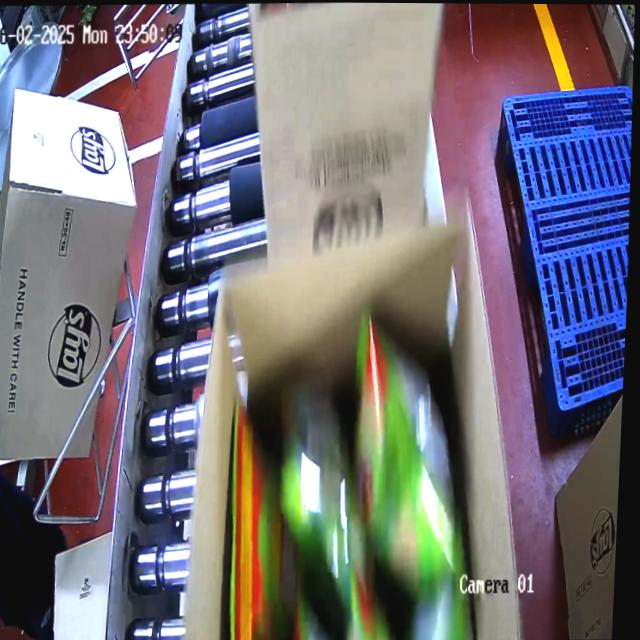YOGURT_HERB: (211, 354, 500, 639)
